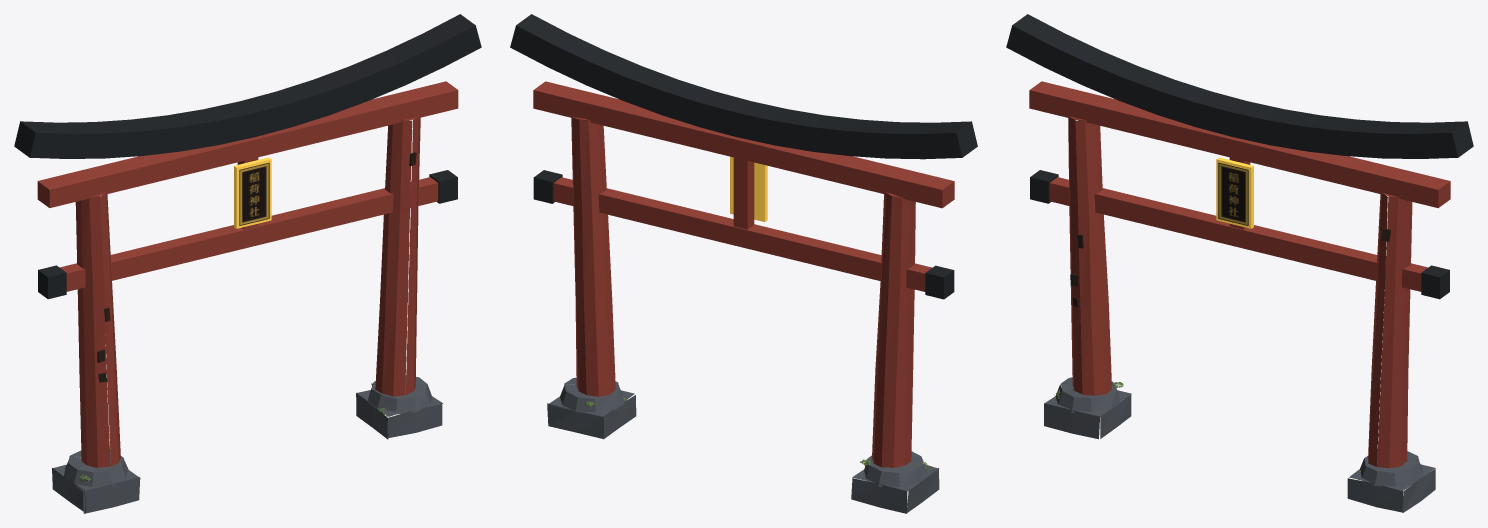
Rendered from 2-05_torii_plaque.glb.
3 views of the same model, side by side, from view 1: azimuth 30°, elevation 25°; view 2: azimuth 150°, elevation 25°; view 3: azimuth 330°, elevation 25° (orthographic).
Parts seen in each view (by area): view 1: 額付き鳥居（大）; view 2: 額付き鳥居（大）; view 3: 額付き鳥居（大）.
Boxes of the visible parts, x1,y1,x2,y2 form: 額付き鳥居（大）: (14,14,481,513); 額付き鳥居（大）: (510,14,977,513); 額付き鳥居（大）: (1006,14,1473,512).
Bounding box in the file's own units: 7.74 × 6.3 × 1.01.
Materials: 7 (1 with a texture image).
